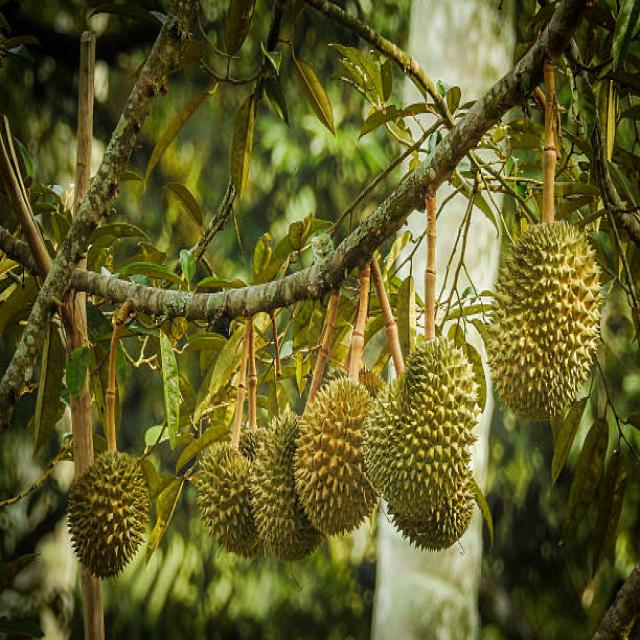immature: (364, 338, 479, 550), (251, 412, 321, 562), (196, 442, 260, 558)
mature: (488, 221, 600, 421), (294, 377, 378, 535), (69, 452, 150, 578)
